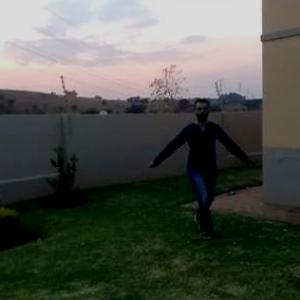land: (144, 94, 246, 225)
